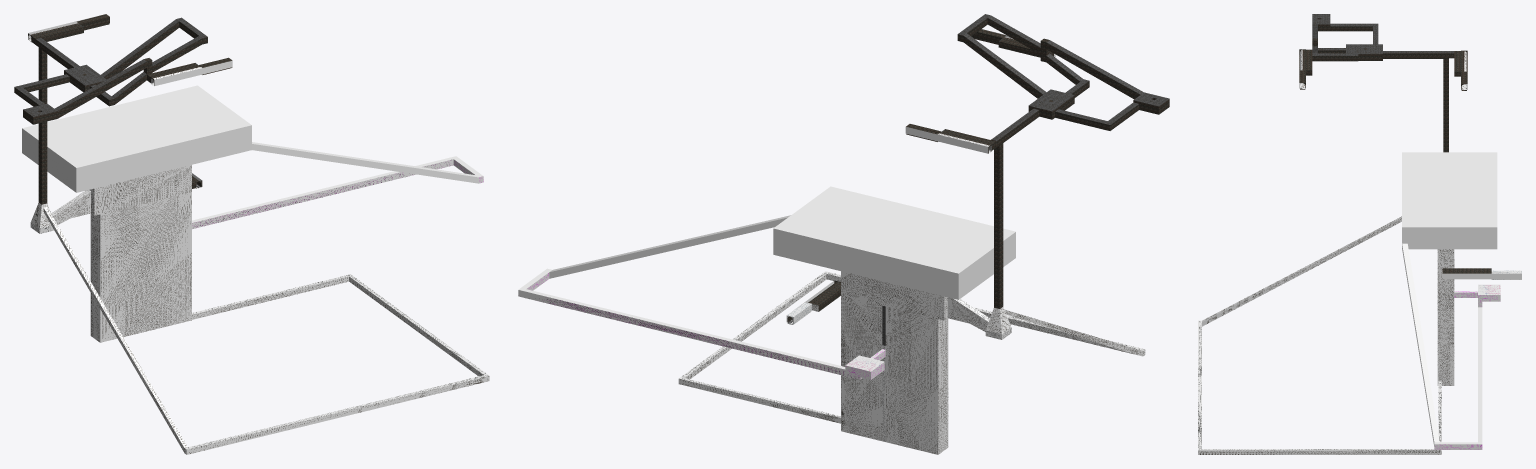
The model's file is Metro3f.fbx.
3 renders of one model, left to right at view 1: azimuth 30°, elevation 25°; view 2: azimuth 150°, elevation 25°; view 3: azimuth 270°, elevation 25°, orthographic. The views are drawn at different scales.
Visible parts, largest first — view 1: Model, Parte1_1; view 2: Model, Parte1_1; view 3: Model, Parte1_1.
Boxes of the visible parts, left/top/right/bottom form: Model: left=22, top=85, right=489, bottom=454; Parte1_1: left=14, top=14, right=232, bottom=204; Model: left=518, top=186, right=1145, bottom=454; Parte1_1: left=905, top=14, right=1169, bottom=308; Model: left=1198, top=152, right=1521, bottom=454; Parte1_1: left=1299, top=14, right=1467, bottom=152.
Bounding box in the file's own units: 312 × 200 × 192.
